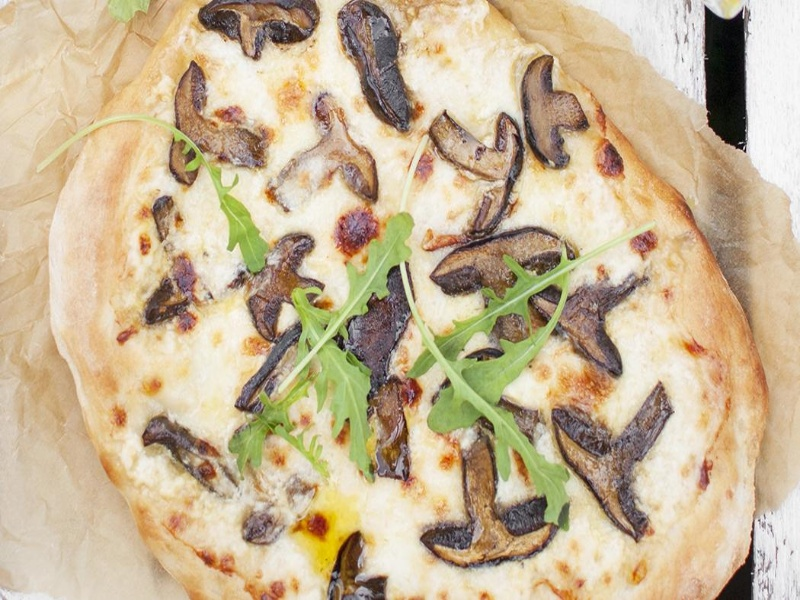champignon: (543, 379, 686, 550), (412, 435, 563, 572), (271, 81, 383, 220), (421, 106, 536, 239), (161, 58, 266, 192), (235, 232, 340, 342), (516, 54, 592, 174)
